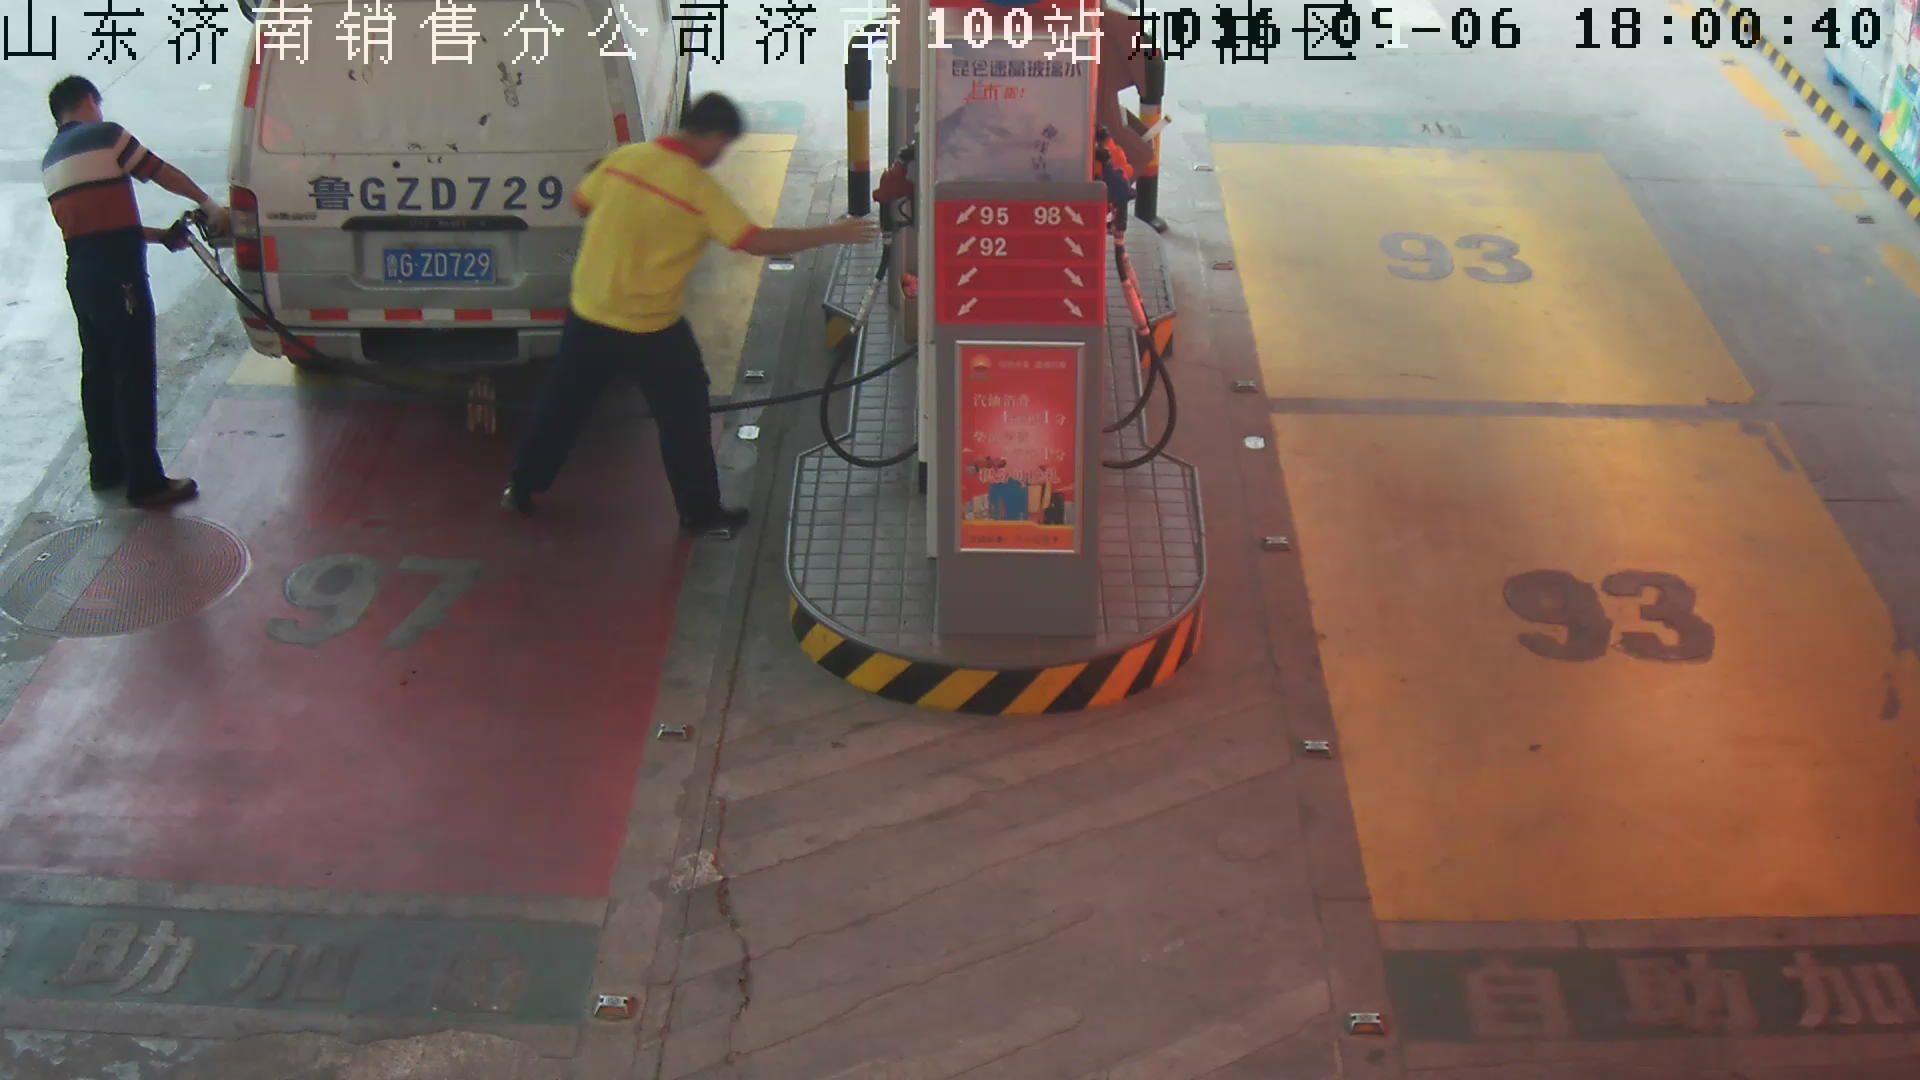blue: (381, 245, 498, 289)
